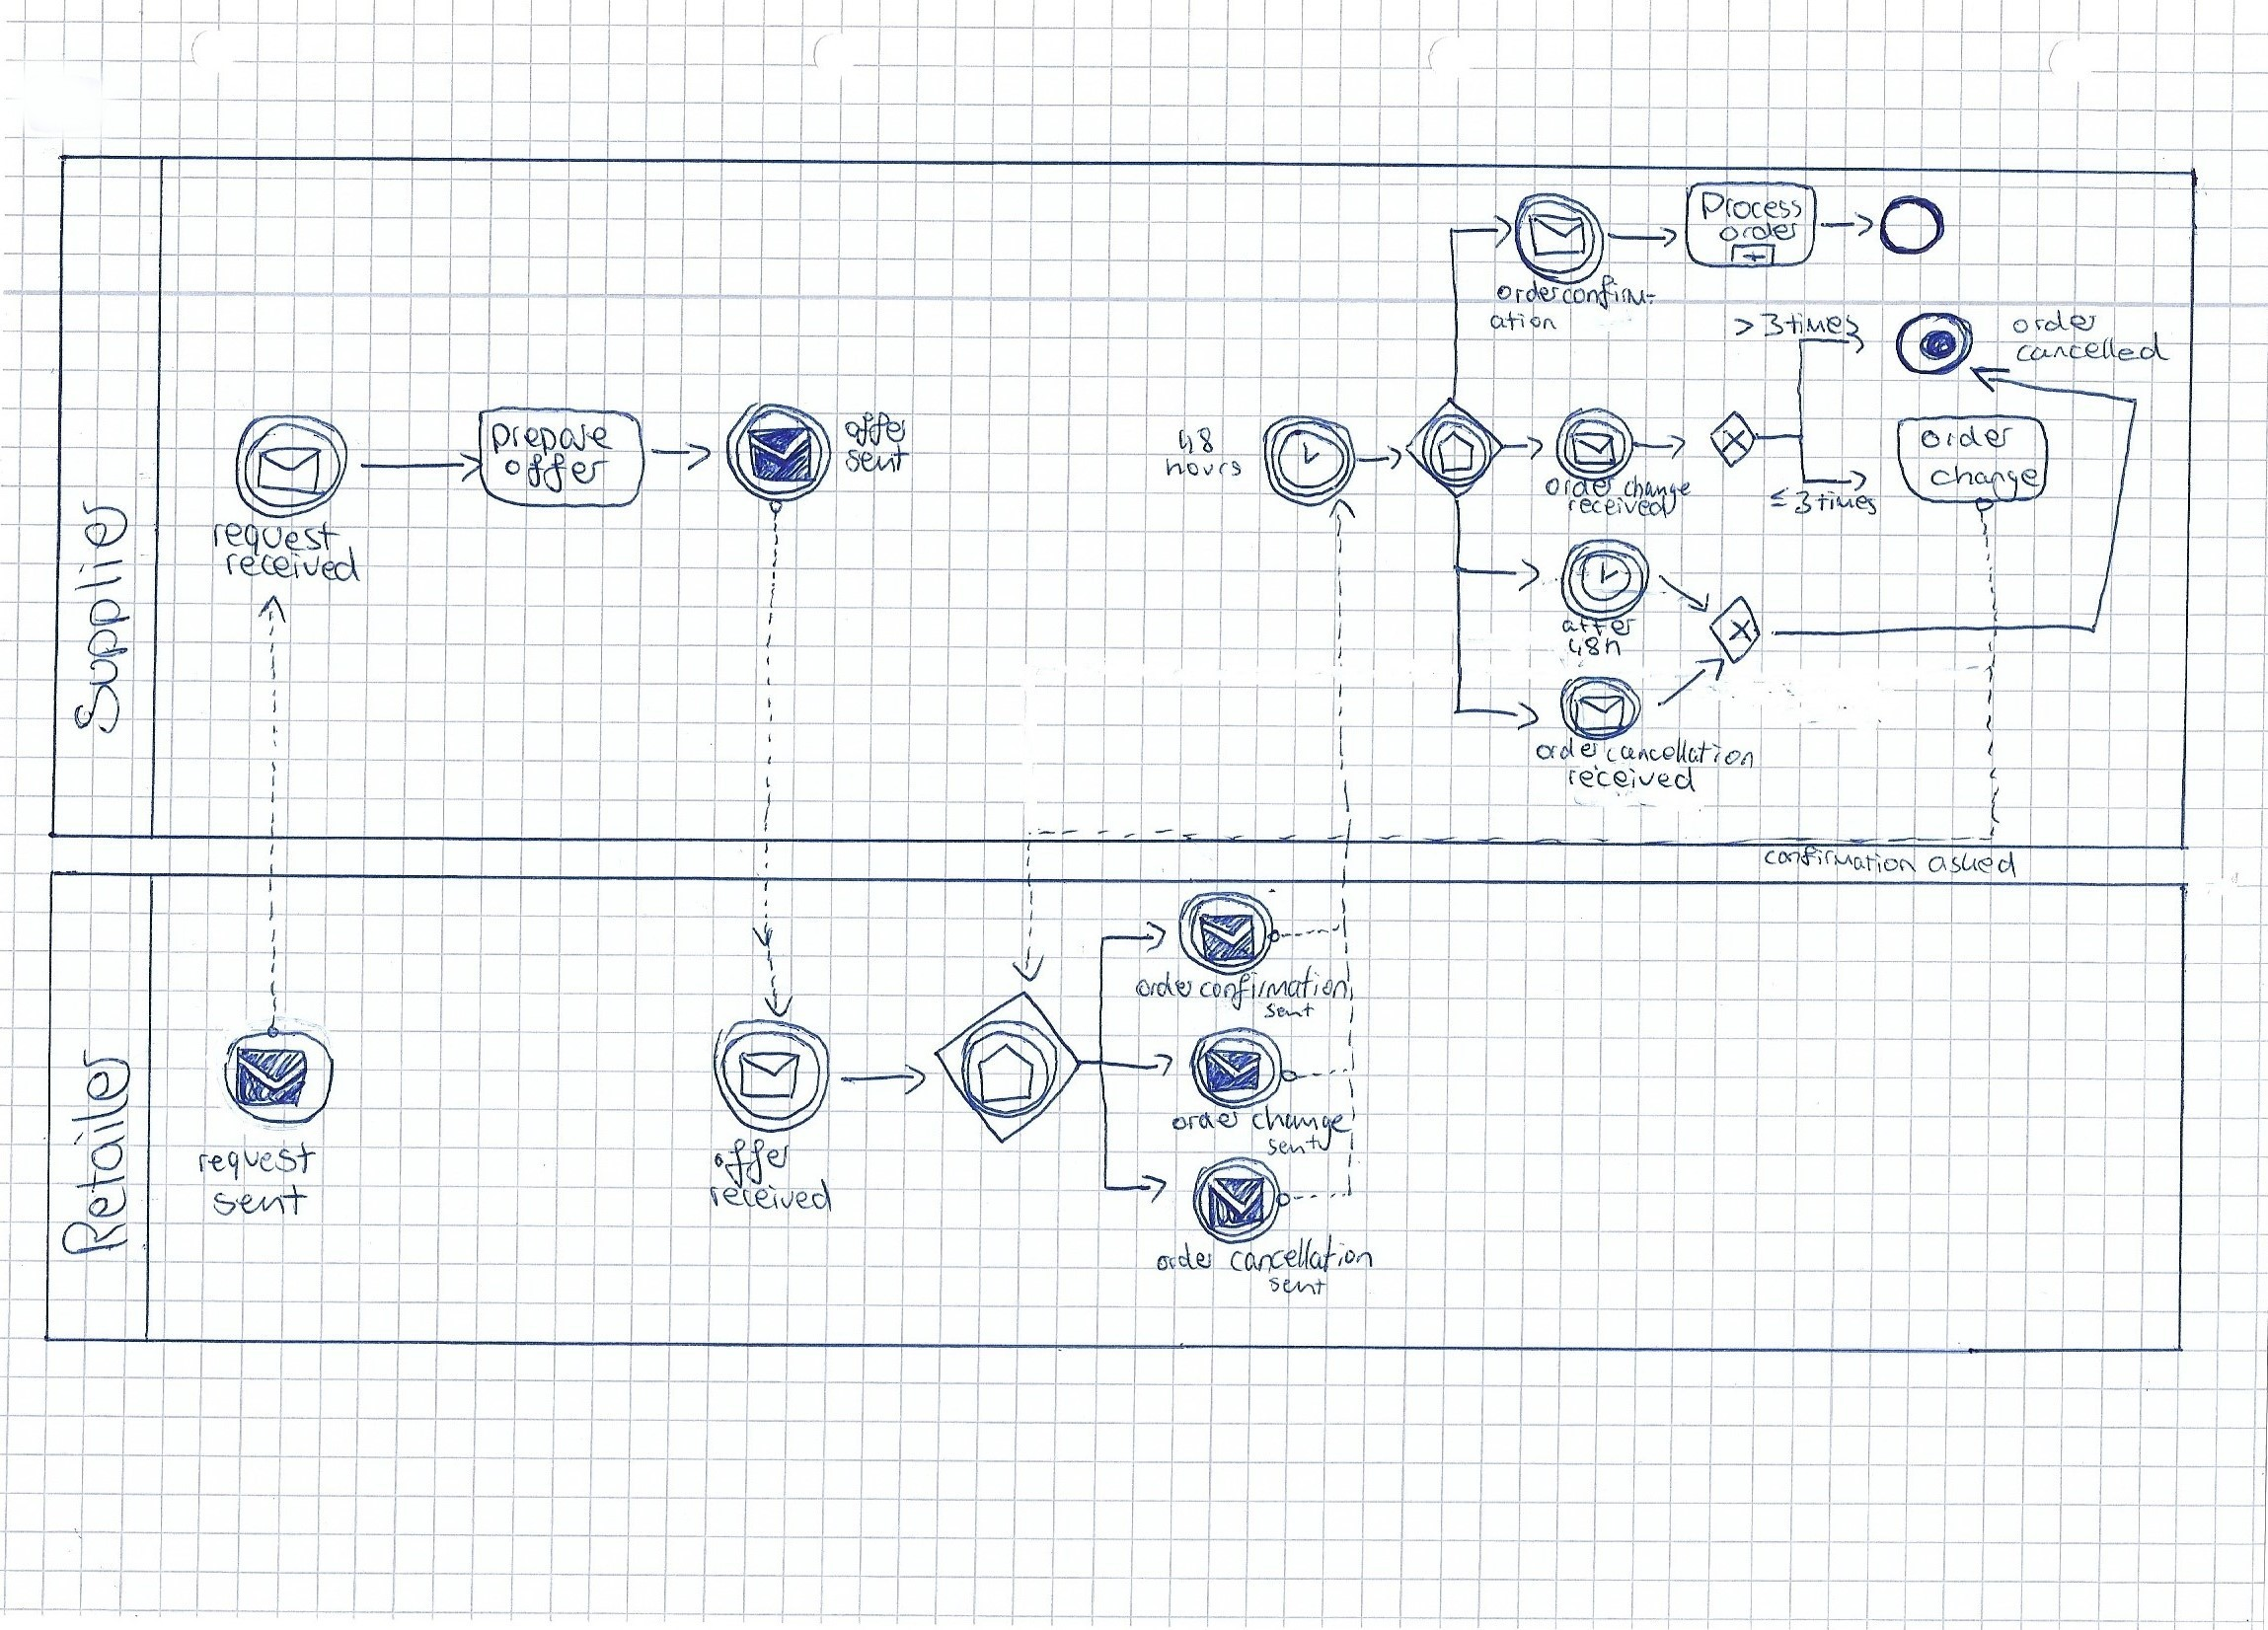48: (1176, 426, 1213, 458)
48h: (1571, 637, 1624, 657)
<=3: (1764, 486, 1808, 518)
>3times: (1729, 306, 1861, 338)
Process: (1701, 192, 1810, 227)
Retailer: (55, 1046, 137, 1260)
Supplier: (63, 505, 137, 738)
after: (1562, 609, 1636, 635)
ation: (1490, 312, 1560, 333)
cancellation: (1597, 739, 1756, 773), (1224, 1245, 1372, 1274)
cancelled: (2013, 338, 2171, 364)
change: (1930, 463, 2039, 498), (1247, 1107, 1349, 1135), (1616, 477, 1683, 502)
confirm-: (1564, 275, 1657, 308)
confirmation: (1196, 972, 1342, 1005)
hours: (1152, 454, 1245, 482)
offer: (495, 447, 604, 491), (713, 1135, 794, 1176), (835, 415, 903, 454)
order: (1921, 424, 2013, 454), (1719, 217, 1800, 248), (1143, 1243, 1215, 1276), (2011, 310, 2095, 336), (1488, 278, 1565, 303), (1541, 477, 1616, 502), (1127, 973, 1190, 1002), (1166, 1111, 1238, 1134), (1532, 739, 1595, 764)
prepare: (482, 419, 613, 458)
received: (1551, 762, 1706, 794), (220, 551, 357, 584), (710, 1181, 833, 1213), (1562, 495, 1678, 518)
request: (190, 1135, 313, 1183), (204, 519, 331, 549)
sent: (201, 1186, 315, 1222), (1257, 1274, 1342, 1299), (838, 445, 907, 475), (1254, 995, 1321, 1024), (1257, 1135, 1328, 1153)
times: (1807, 489, 1881, 518)
